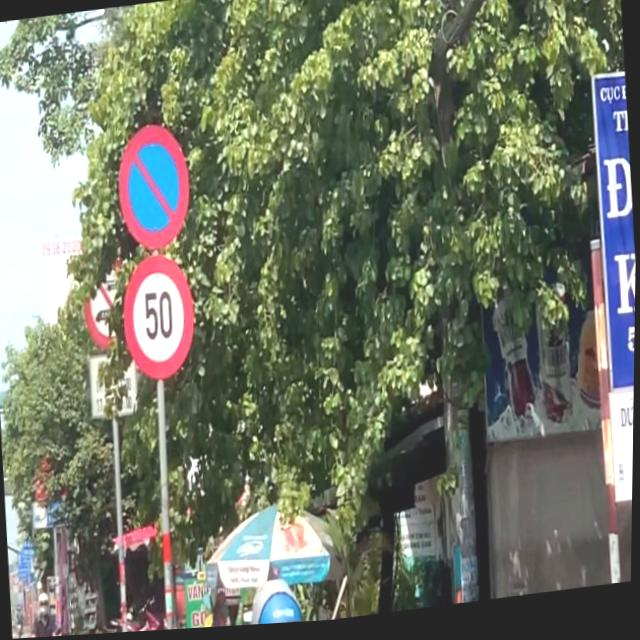Cam do xe: (113, 121, 195, 256)
Toc do toi da cho phep: (118, 252, 200, 386)
